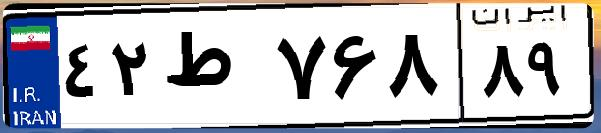2: (110, 28, 158, 98)
4: (57, 26, 110, 100)
6: (330, 28, 385, 110)
7: (270, 28, 330, 110)
8: (385, 28, 445, 110), (475, 38, 525, 113)
9: (525, 38, 570, 115)
ط: (158, 20, 270, 120)
